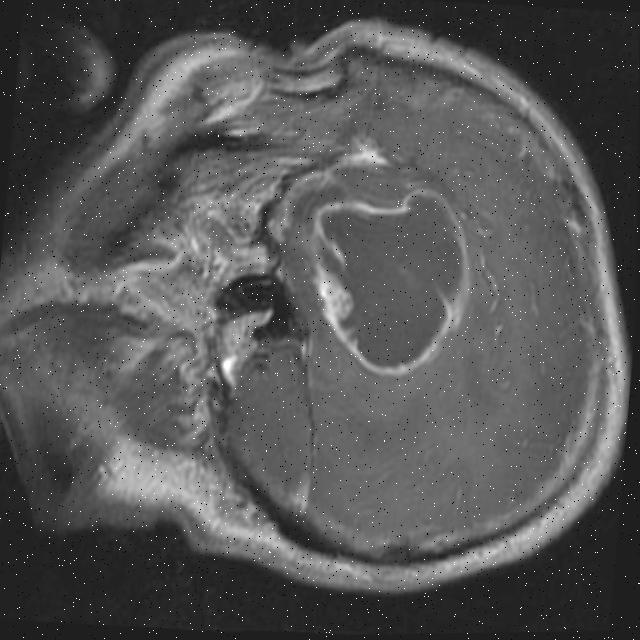Glioma: (296, 179, 478, 383)
